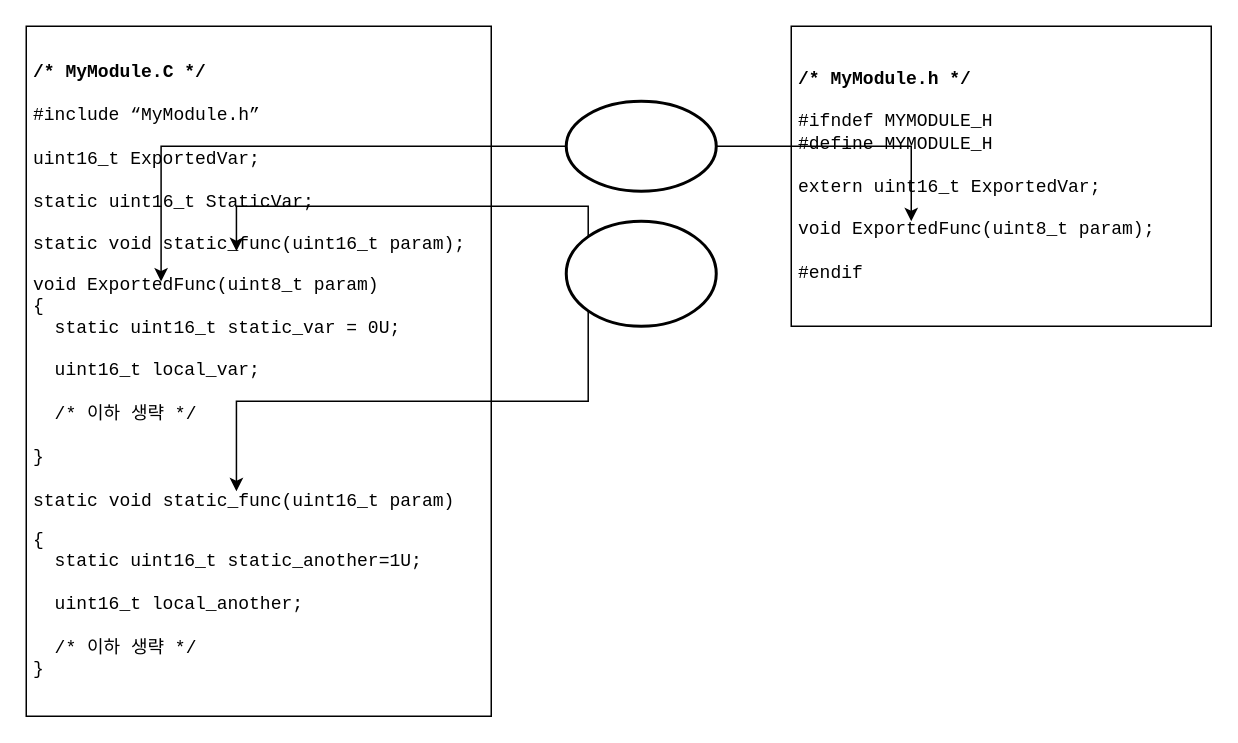
The diagram is 1238 pixels wide and 743 high, and some of its shapes have lost their labels. Here are the shapes that lost their labels. From the top down, the centre of each, then its label:
At point (640, 145): "전역함수 Exported".
At point (640, 273): "정적함수 모듈내 범위 FileScope".
